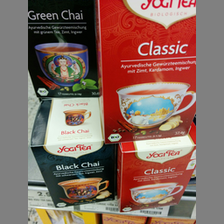tea: (96, 1, 196, 144), (31, 99, 116, 209), (118, 135, 196, 213)
